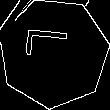L_E: (28, 36, 80, 71)
